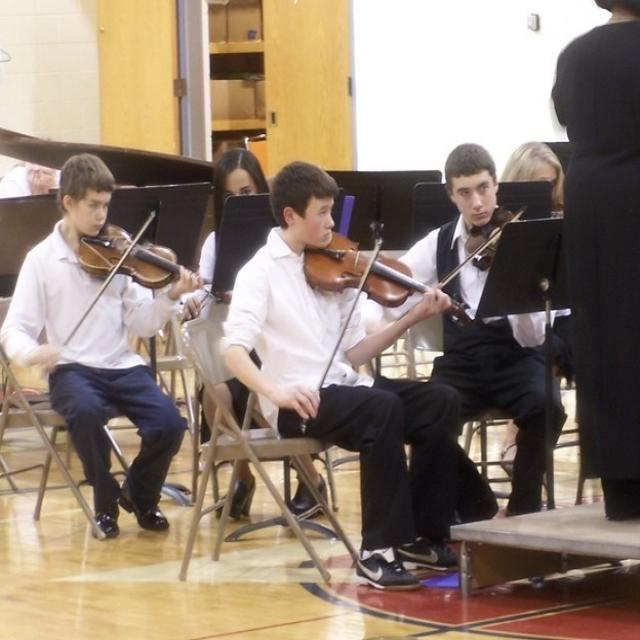violin: (299, 229, 468, 324), (72, 221, 225, 309), (461, 206, 528, 268)
